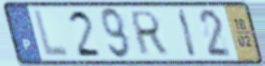2: (198, 8, 234, 60), (67, 9, 104, 58)
9: (101, 6, 134, 61)
I: (176, 7, 200, 60)
L: (32, 7, 72, 60)
R: (129, 10, 170, 58)
